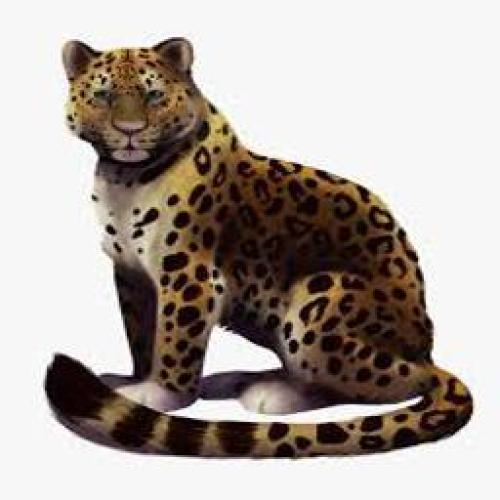amur_leopard-endangered: (47, 37, 476, 459)
